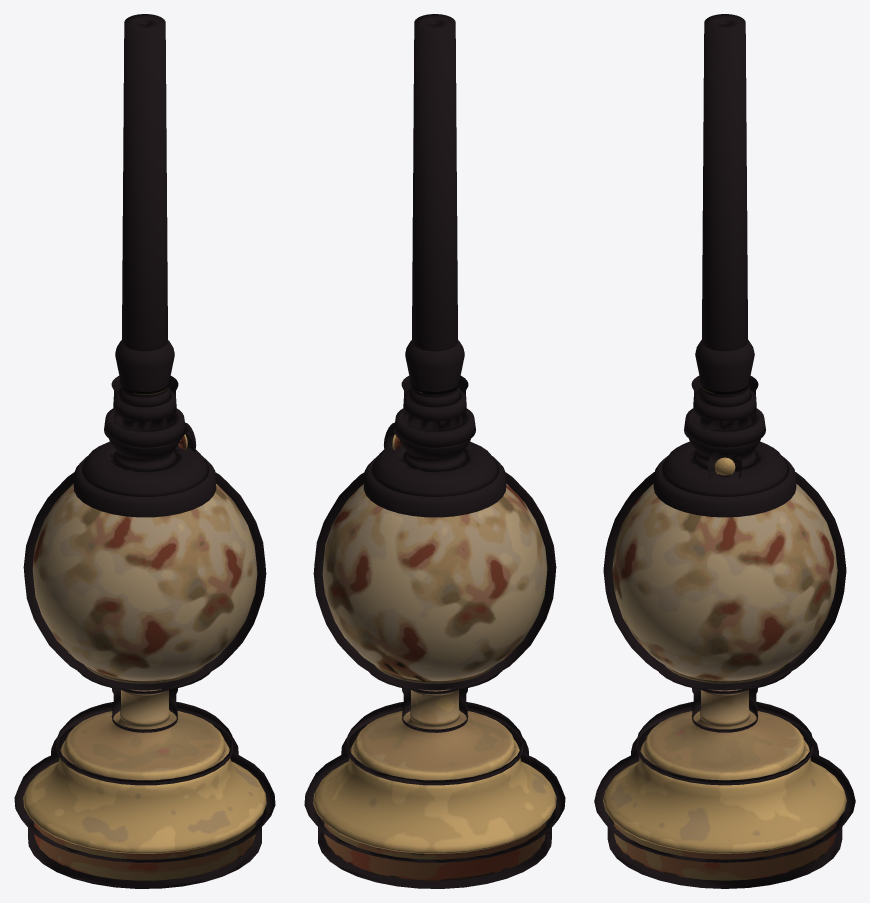
The model's file is SM_Int_OilLamp.fbx.
3 views of the same model, side by side, from view 1: azimuth 30°, elevation 25°; view 2: azimuth 150°, elevation 25°; view 3: azimuth 270°, elevation 25° (orthographic).
Parts seen in each view (by area): view 1: SM_Int_OilLamp; view 2: SM_Int_OilLamp; view 3: SM_Int_OilLamp.
Part boxes in pixels (<box>): SM_Int_OilLamp: <box>14,14,275,888</box>; SM_Int_OilLamp: <box>304,14,565,888</box>; SM_Int_OilLamp: <box>594,14,855,888</box>.
Bounding box in the file's own units: 0.2359 × 0.813 × 0.2359.
